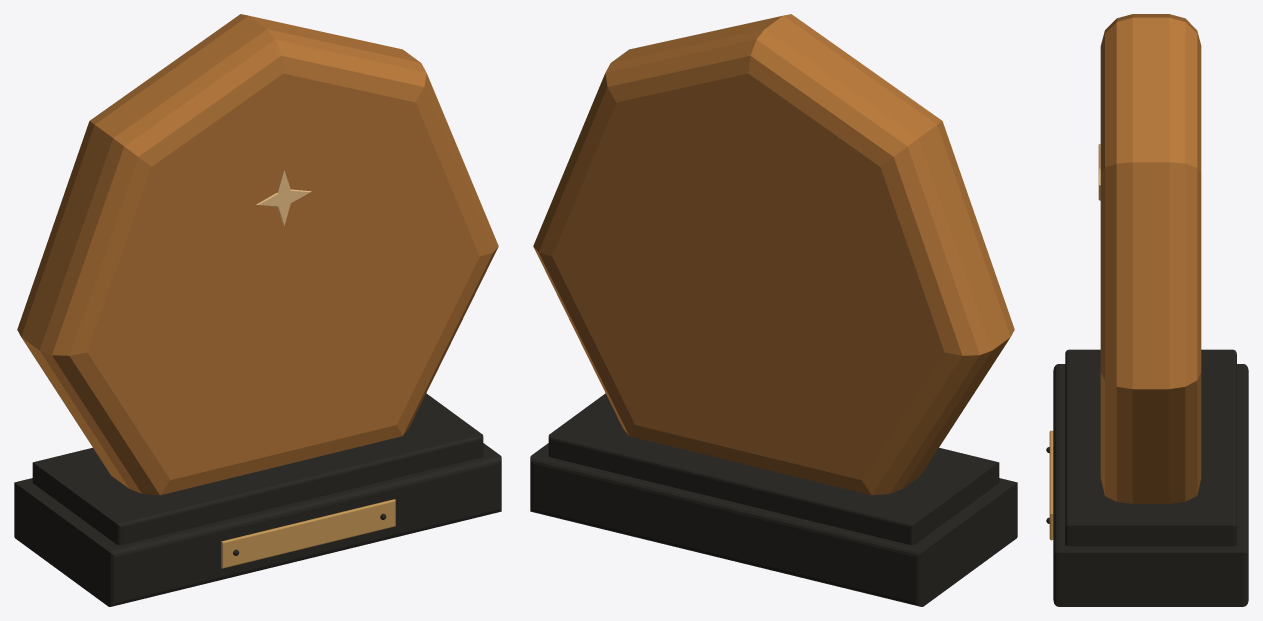
File: facet.glb
3 renders of one model, left to right at view 1: azimuth 30°, elevation 25°; view 2: azimuth 150°, elevation 25°; view 3: azimuth 270°, elevation 25°, orthographic.
Parts seen in each view (by area): view 1: object 4, object 1, object 2, EngravingPlate, object 5; view 2: object 4, object 1, object 2; view 3: object 4, object 2, object 1, EngravingPlate.
Part boxes in pixels (left/top/right/bottom): object 4: left=17, top=14, right=498, bottom=495; object 1: left=14, top=443, right=501, bottom=606; object 2: left=32, top=393, right=483, bottom=545; EngravingPlate: left=221, top=499, right=395, bottom=568; object 5: left=256, top=169, right=311, bottom=226; object 4: left=533, top=14, right=1014, bottom=495; object 1: left=530, top=443, right=1017, bottom=606; object 2: left=548, top=393, right=999, bottom=545; object 4: left=1100, top=14, right=1201, bottom=503; object 2: left=1065, top=349, right=1236, bottom=546; object 1: left=1053, top=364, right=1248, bottom=606; EngravingPlate: left=1049, top=430, right=1053, bottom=540.
Size of the model in its own units: 2.41 by 2.54 by 0.943.
